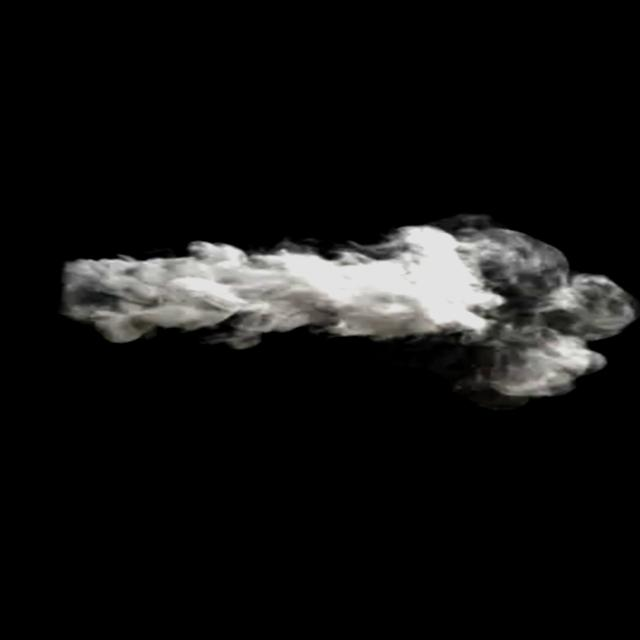Smoke: (41, 183, 640, 435)
